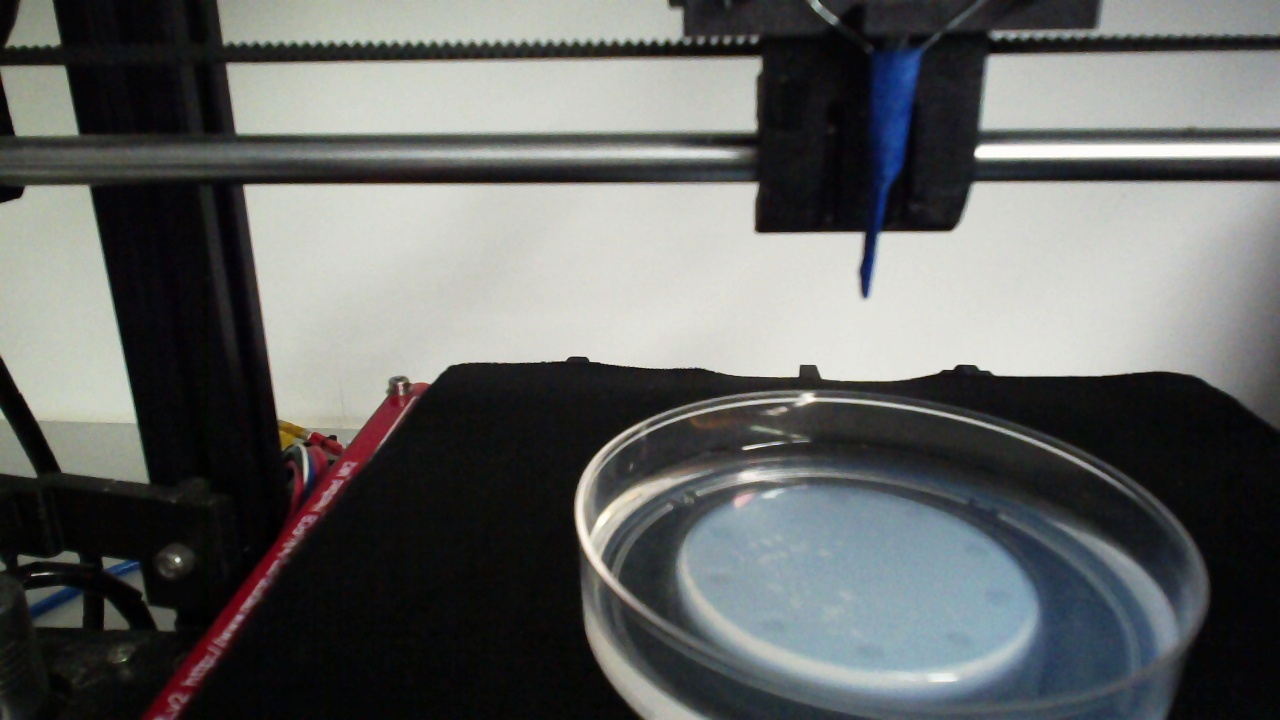groove: (983, 589, 1013, 607), (947, 631, 973, 650), (854, 644, 884, 659), (962, 541, 990, 557), (758, 618, 786, 633), (707, 573, 734, 586), (710, 526, 736, 539), (825, 490, 851, 503), (902, 507, 926, 520)
needle: (859, 60, 921, 298)
